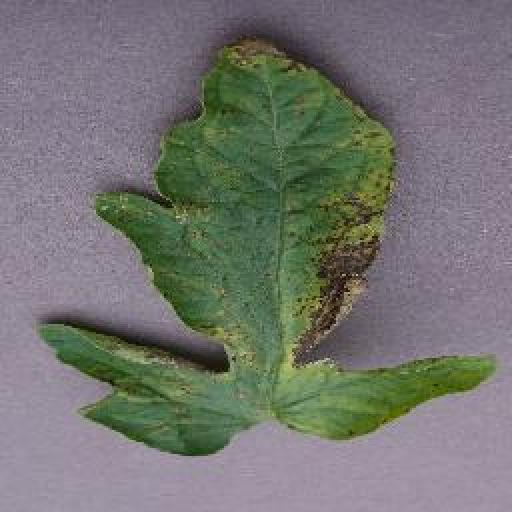Septoria: (38, 38, 495, 458)
